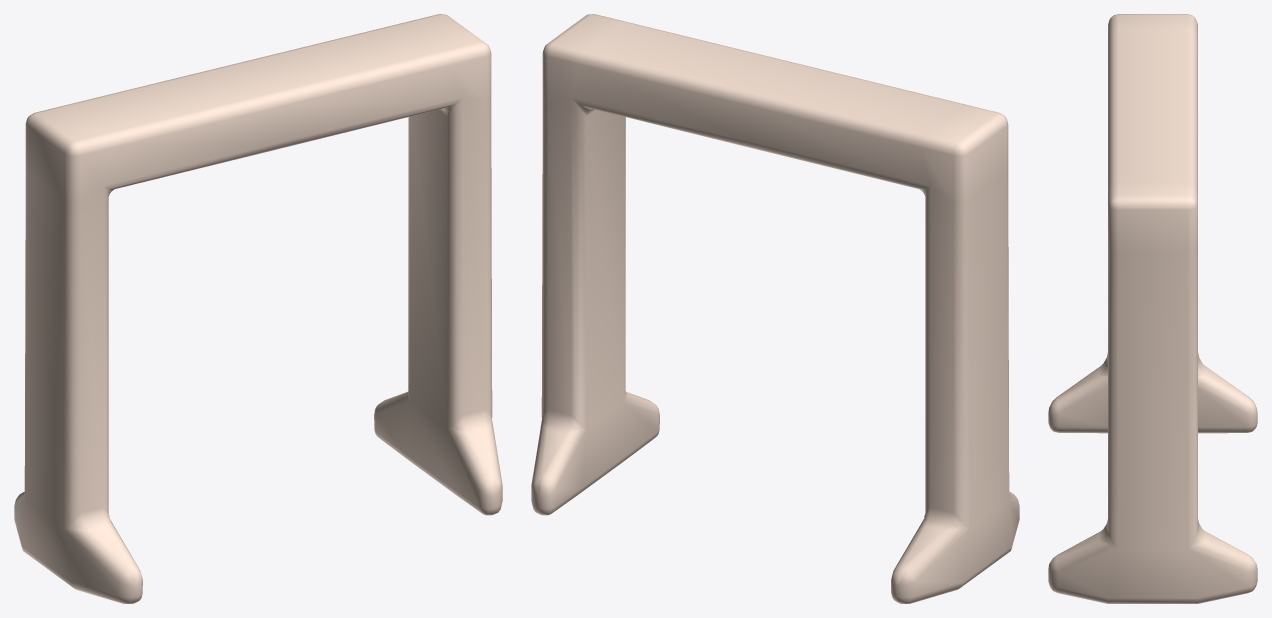
File: Props_Conveyor_Scanner.fbx
3 views of the same model, side by side, from view 1: azimuth 30°, elevation 25°; view 2: azimuth 150°, elevation 25°; view 3: azimuth 270°, elevation 25° (orthographic). The views are drawn at different scales.
Parts seen in each view (by area): view 1: Props_Conveyor_Scanner; view 2: Props_Conveyor_Scanner; view 3: Props_Conveyor_Scanner.
Part boxes in pixels (bbox=[...]): Props_Conveyor_Scanner: bbox=[14, 14, 502, 603]; Props_Conveyor_Scanner: bbox=[531, 14, 1019, 603]; Props_Conveyor_Scanner: bbox=[1048, 14, 1257, 603].
Size of the model in its own units: 101 by 100 by 46.63.
